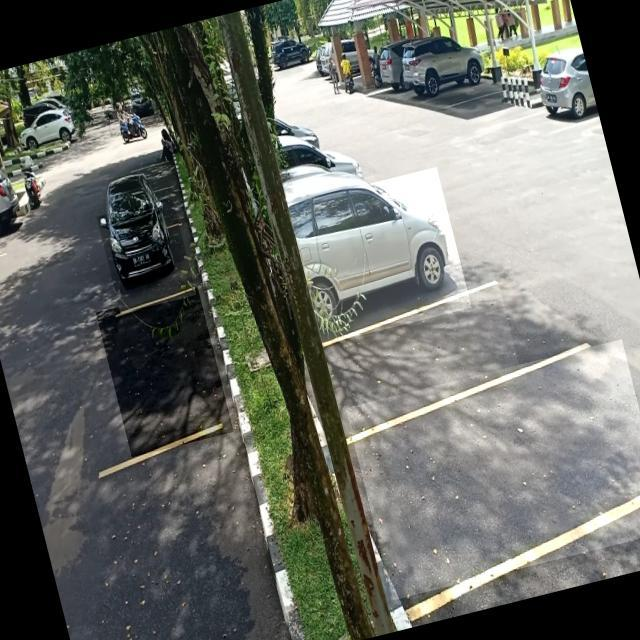empty: (345, 338, 640, 599), (320, 284, 528, 442), (95, 286, 234, 456)
occupied: (287, 166, 471, 344), (96, 198, 196, 314)
